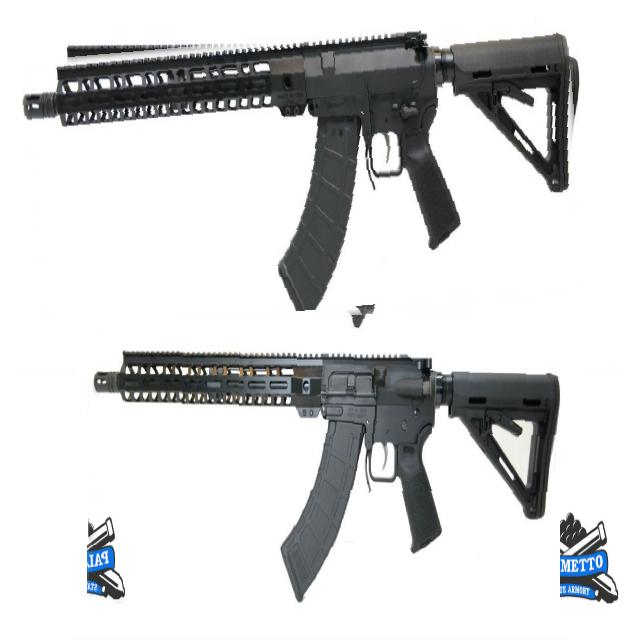gun: (24, 26, 584, 330), (88, 308, 561, 614)
